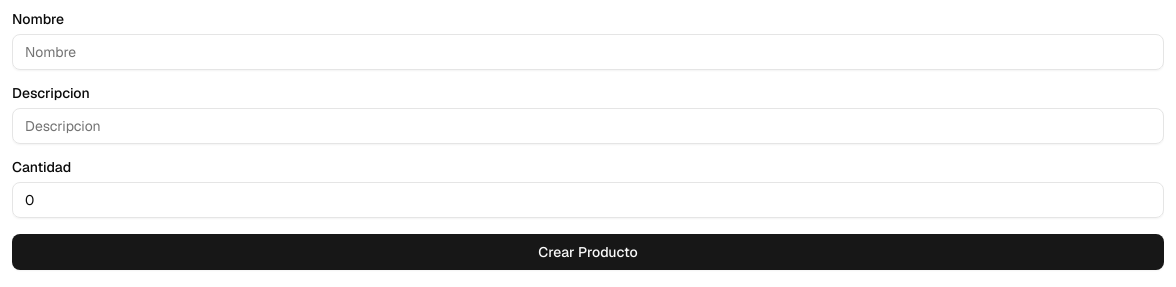
ProductForm › should submit the form and reset the input fields
Step 1. Type "Producto 1" into the field with placeholder "Nombre" → x=588, y=52, box x1=12 y1=34 x2=1164 y2=70
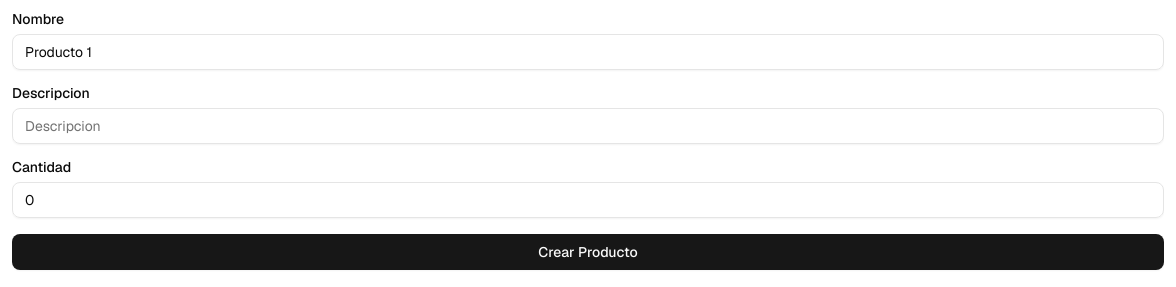
Step 2. Type "Descripcion del producto" into the field with placeholder "Descripcion" → x=588, y=126, box x1=12 y1=108 x2=1164 y2=144
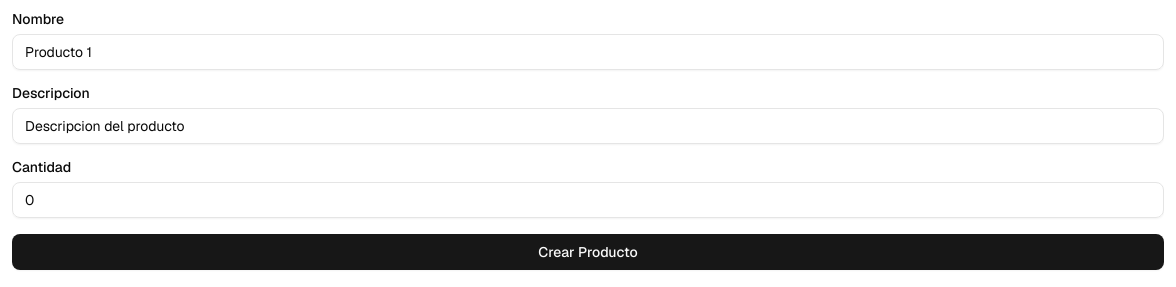
Step 3. Replace the text in the number field with placeholder "Cantidad" with "5" → x=588, y=200, box x1=12 y1=182 x2=1164 y2=218
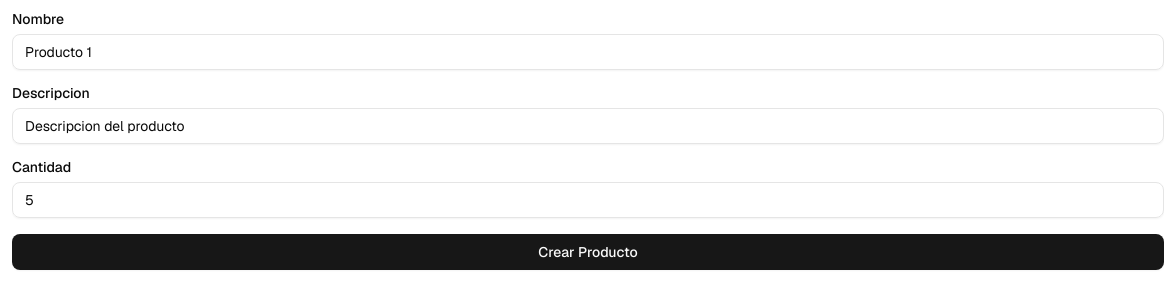
Step 4. Click the button "Crear Producto" → x=588, y=252, box x1=12 y1=234 x2=1164 y2=270
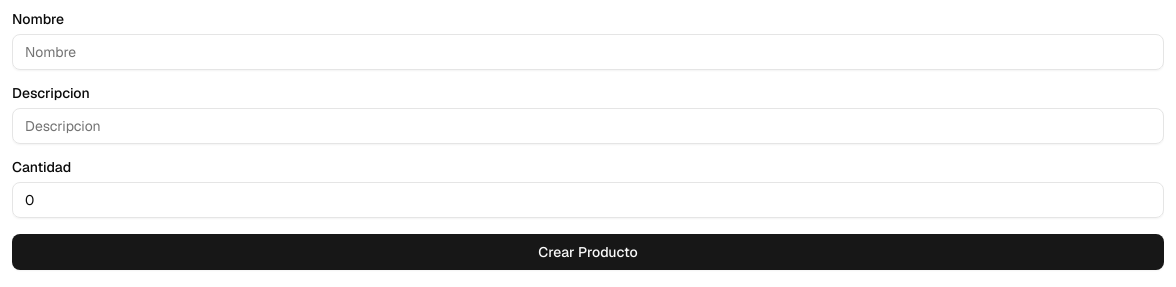
Result: the field with placeholder "Nombre" is empty at x1=12 y1=34 x2=1164 y2=70
Result: the field with placeholder "Descripcion" is empty at x1=12 y1=108 x2=1164 y2=144
Result: the number field with placeholder "Cantidad" holds "0" at x1=12 y1=182 x2=1164 y2=218
